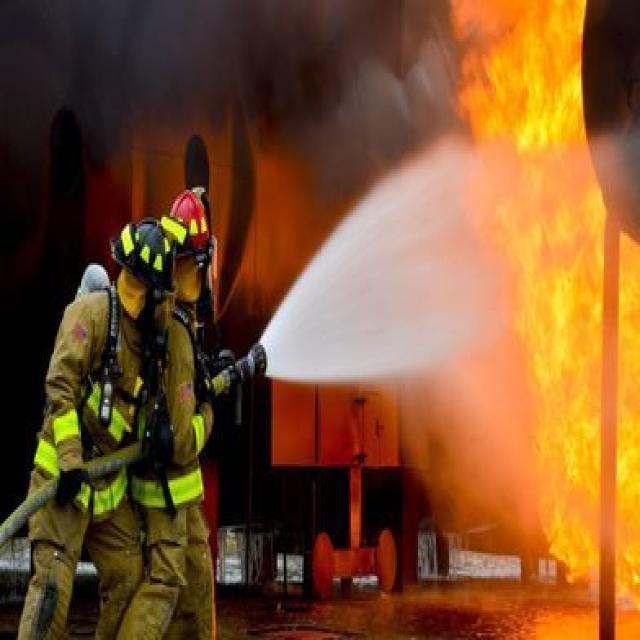Fire: (444, 11, 640, 627), (8, 0, 464, 186)
